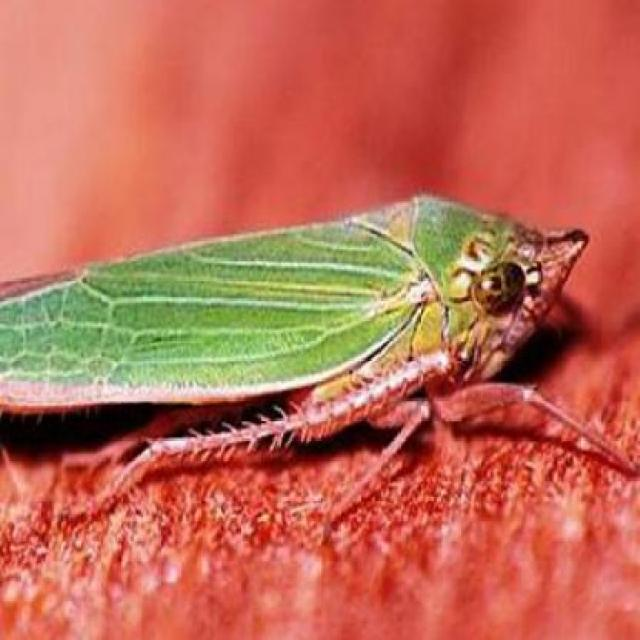green-leafhopper: (4, 185, 602, 490)
